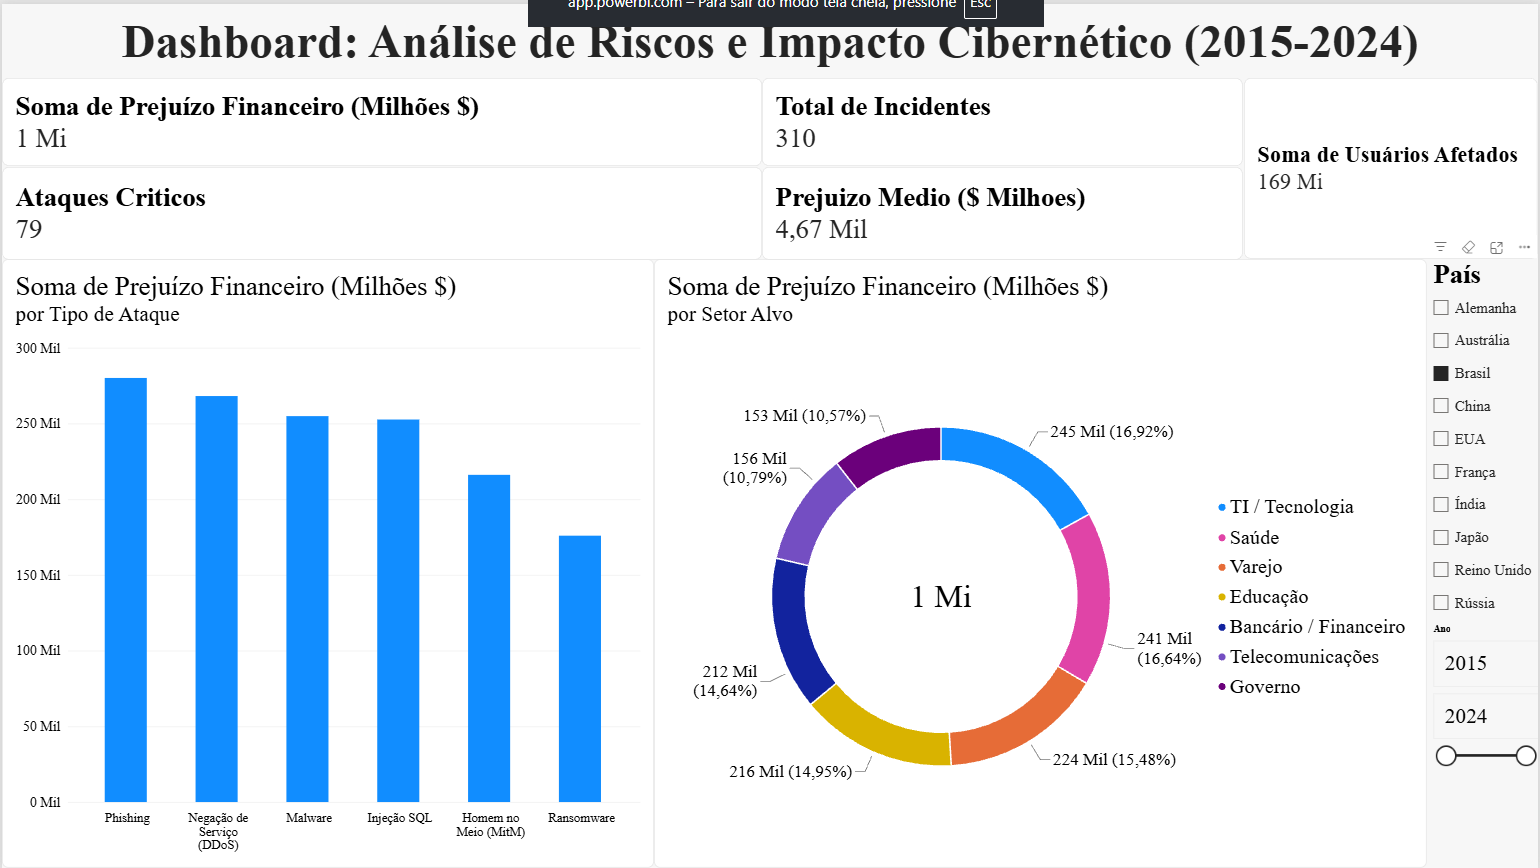

Layout of this report page (visuals, bound fields, positions):
{"tool":"powerbi","page":{"name":"Página 1","canvas":[1920,1080],"ordinal":0},"visuals":[{"type":"cardVisual","fields":{"Data":["Sum(dataset_cybersecurity_tratado.Prejuízo Financeiro (Milhões $))"]},"box":[0,92.7,950.3,110.7],"z":0},{"type":"cardVisual","fields":{"Data":["Sum(dataset_cybersecurity_tratado.Usuários Afetados)"]},"box":[1552,92.7,368,226.9],"z":1000},{"type":"columnChart","fields":{"Category":["dataset_cybersecurity_tratado.Tipo de Ataque"],"Y":["Sum(dataset_cybersecurity_tratado.Prejuízo Financeiro (Milhões $))"]},"box":[0,319.2,815.3,760.8],"z":2000},{"type":"donutChart","fields":{"Category":["dataset_cybersecurity_tratado.Setor Alvo"],"Y":["Sum(dataset_cybersecurity_tratado.Prejuízo Financeiro (Milhões $))"]},"box":[815.3,319.2,965.6,760.8],"z":3000},{"type":"slicer","fields":{"Values":["dataset_cybersecurity_tratado.País"]},"box":[1780.9,319.2,139.7,478.8],"z":4000},{"type":"cardVisual","fields":{"Data":["dataset_cybersecurity_tratado.Prejuizo Medio ($ Milhoes)"]},"box":[950.3,203.3,601.7,116.2],"z":5000},{"type":"cardVisual","fields":{"Data":["dataset_cybersecurity_tratado.Total de Incidentes"]},"box":[950.3,92.7,601.7,110.7],"z":6000},{"type":"cardVisual","fields":{"Data":["dataset_cybersecurity_tratado.Ataques Criticos"]},"box":[0,203.3,950.3,116.2],"z":7000},{"type":"textbox","box":[0,13.8,1920,67.8],"z":8000},{"type":"slicer","fields":{"Values":["dataset_cybersecurity_tratado.Ano"]},"box":[1780.9,774.1,139.7,305.9],"z":9000}]}

Visuals, with their boxes on the page's 1920x1080 design canvas (x1, y1, x2, y2). These are canvas units, not pixel positions in the 1540x868 screenshot, which may show the page scaled, cropped or inside an application window:
cardVisual - Sum(dataset_cybersecurity_tratado.Prejuízo Financeiro (Milhões $)): 0:93:950:203
cardVisual - Sum(dataset_cybersecurity_tratado.Usuários Afetados): 1552:93:1920:320
columnChart - dataset_cybersecurity_tratado.Tipo de Ataque x Sum(dataset_cybersecurity_tratado.Prejuízo Financeiro (Milhões $)): 0:319:815:1080
donutChart - dataset_cybersecurity_tratado.Setor Alvo x Sum(dataset_cybersecurity_tratado.Prejuízo Financeiro (Milhões $)): 815:319:1781:1080
slicer - dataset_cybersecurity_tratado.País: 1781:319:1921:798
cardVisual - dataset_cybersecurity_tratado.Prejuizo Medio ($ Milhoes): 950:203:1552:320
cardVisual - dataset_cybersecurity_tratado.Total de Incidentes: 950:93:1552:203
cardVisual - dataset_cybersecurity_tratado.Ataques Criticos: 0:203:950:320
textbox: 0:14:1920:82
slicer - dataset_cybersecurity_tratado.Ano: 1781:774:1921:1080
